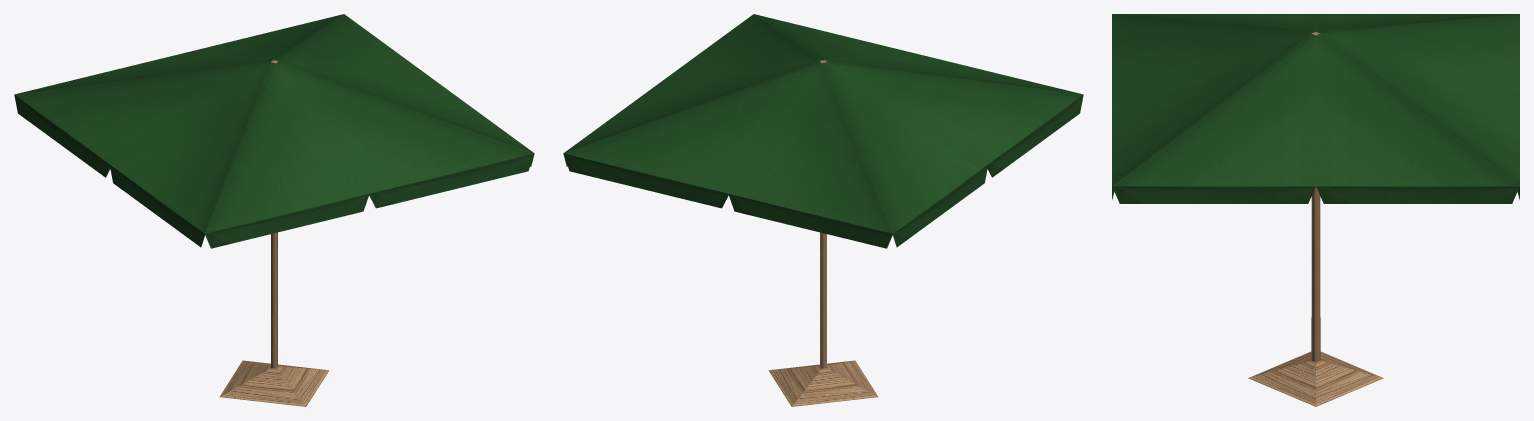
Rendered from Umbrella_06.FBX.
The picture shows the model from 3 angles, left to right: view 1: azimuth 30°, elevation 25°; view 2: azimuth 150°, elevation 25°; view 3: azimuth 270°, elevation 25°; orthographic projection. The views are drawn at different scales.
Visible parts, largest first — view 1: Umbrella_06; view 2: Umbrella_06; view 3: Umbrella_06.
Boxes of the visible parts, <box> form: Umbrella_06: <box>14,14,534,406</box>; Umbrella_06: <box>563,14,1083,406</box>; Umbrella_06: <box>1112,14,1519,406</box>.
Size of the model in its own units: 3.16 by 2.95 by 3.16.
